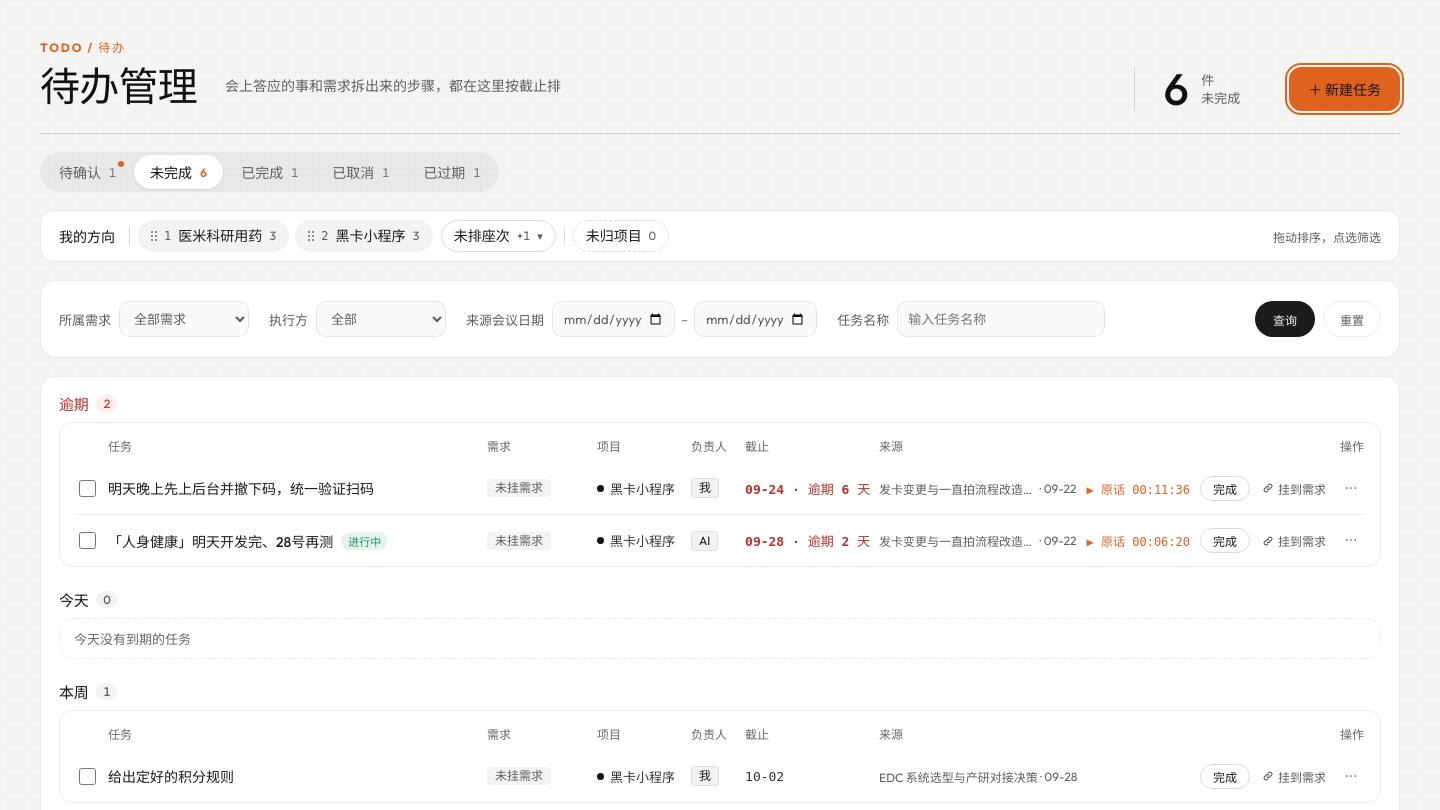
Test: 待办：完成与撤销 › 新建任务弹窗按 Esc 关掉：焦点回到［＋ 新建任务］
The width and height of the screenshot is (1440, 810).
Click the button "＋ 新建任务". click: (1345, 89)
box: [1289,67,1400,111]
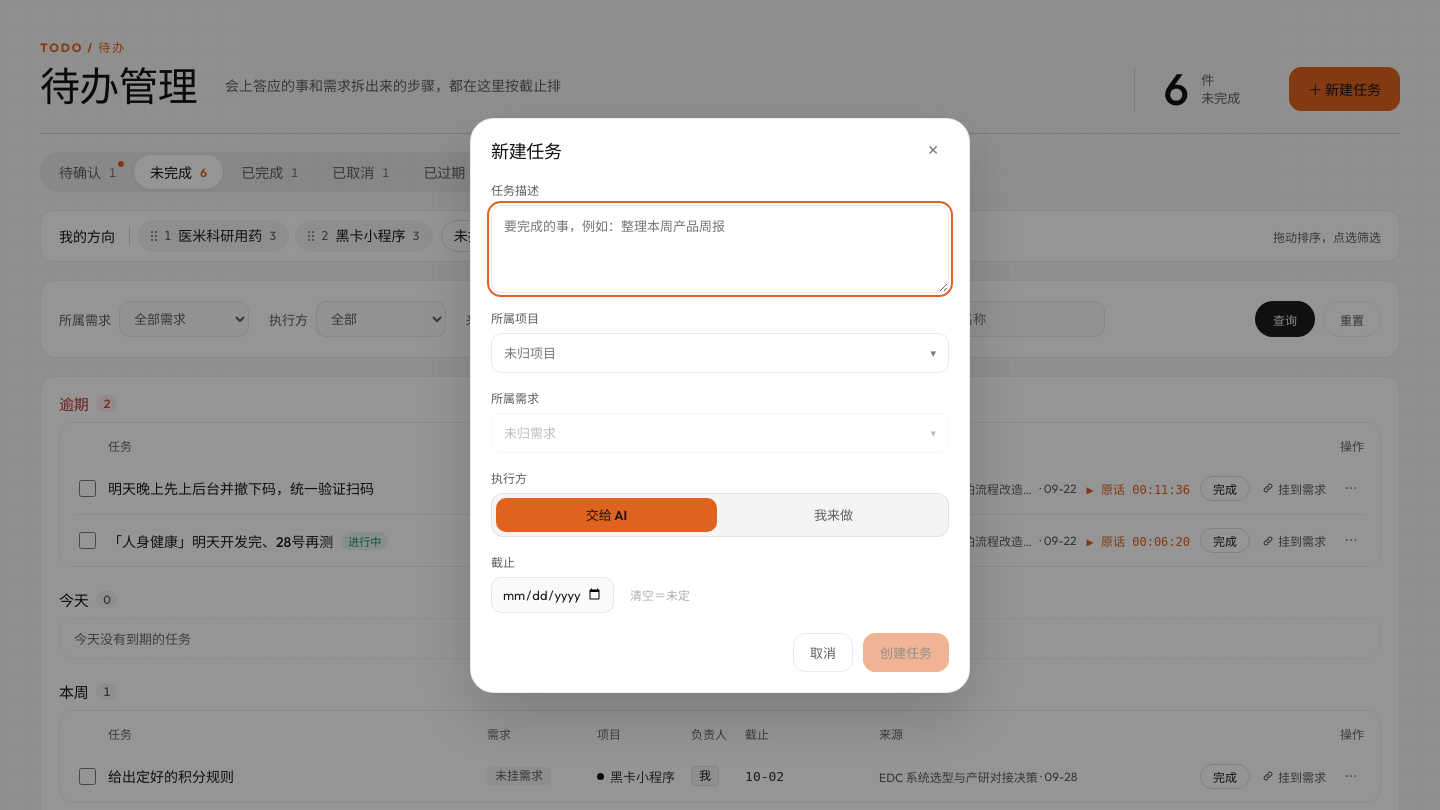
Expected: the dialog is shown, [470,118,970,692]
Press Escape
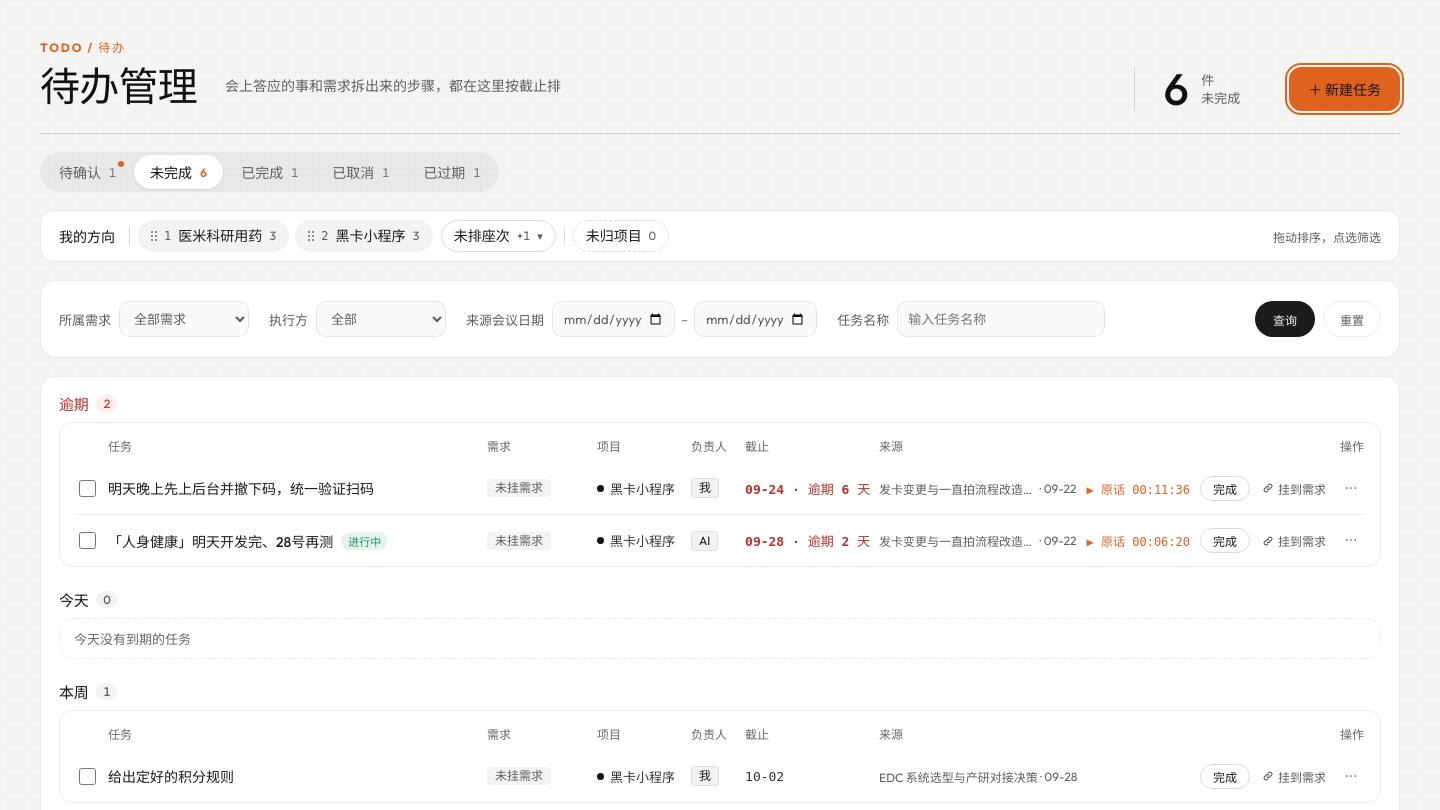
Expected: the dialog is gone
